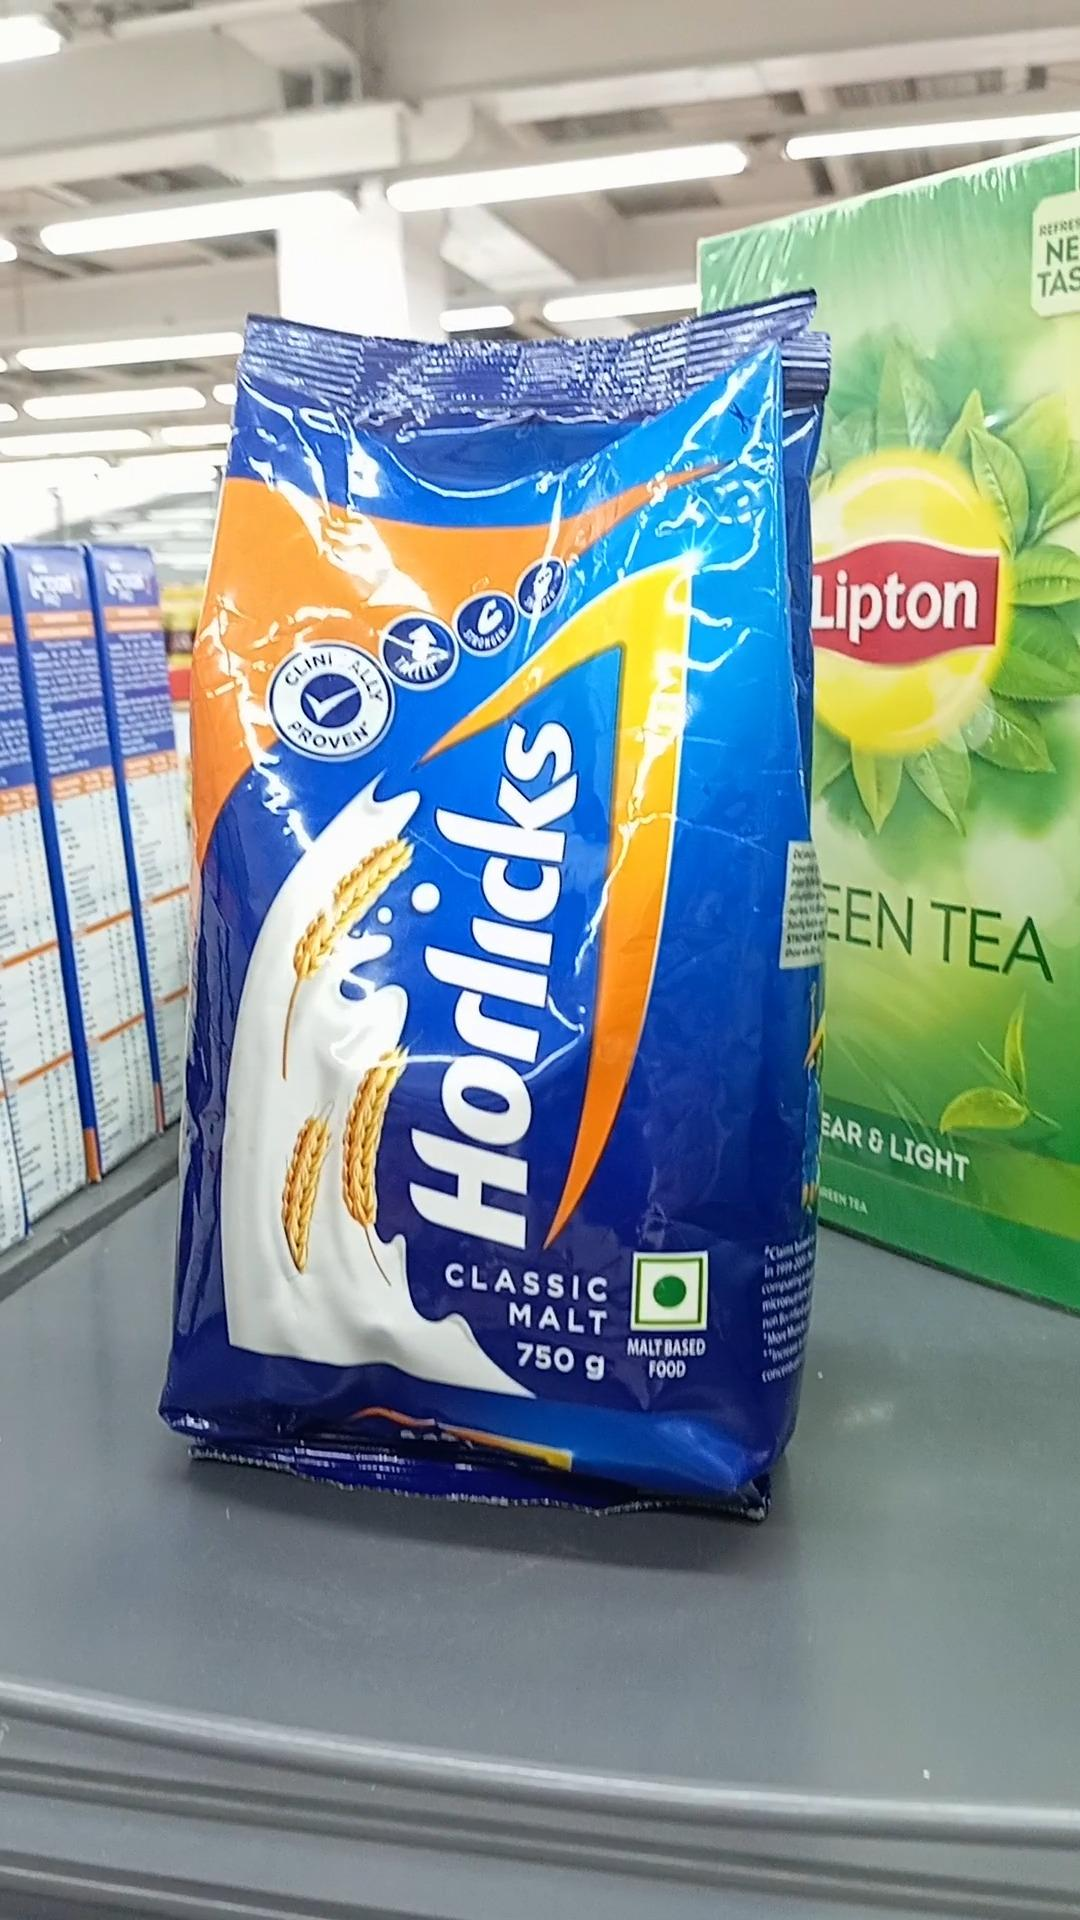HORLICK_CLASSIC_MALT_750_G_POUCH: (183, 313, 803, 1513)
